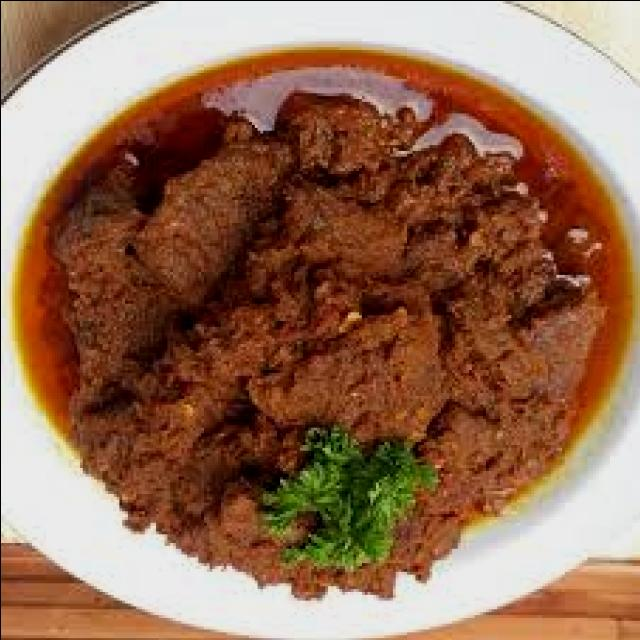rendang: (17, 40, 634, 600)
